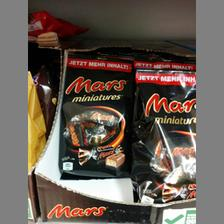Schokolade: (57, 53, 134, 180), (129, 64, 195, 202)
